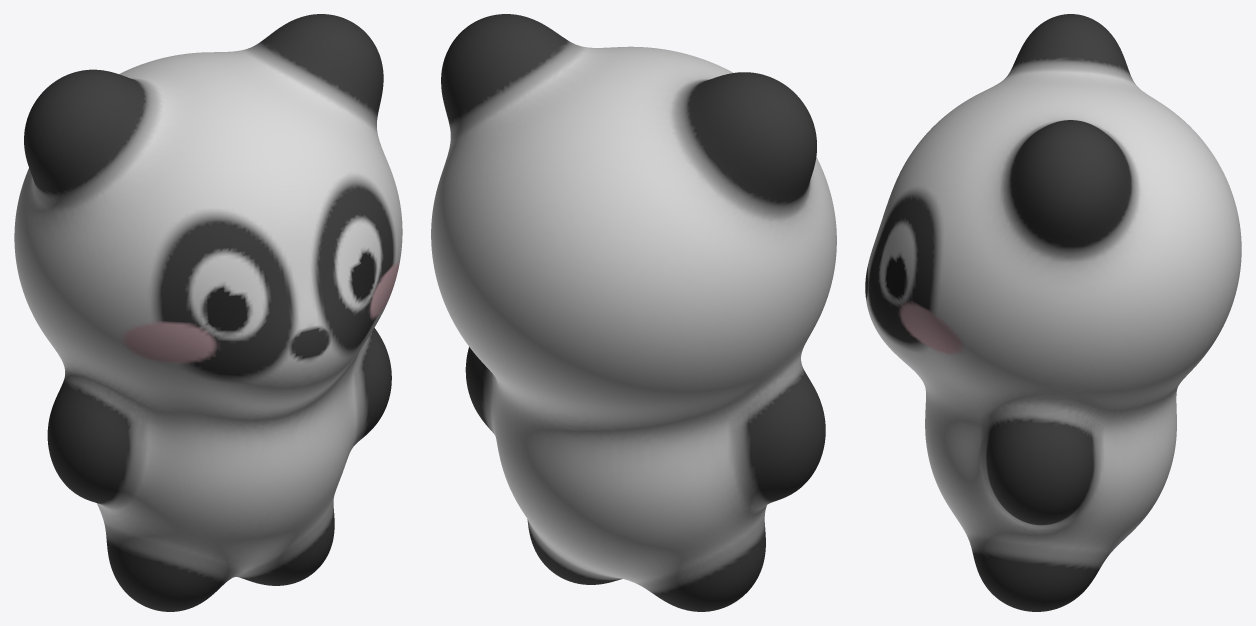
File: figure-panda.glb
3 renders of one model, left to right at view 1: azimuth 30°, elevation 25°; view 2: azimuth 150°, elevation 25°; view 3: azimuth 270°, elevation 25°, orthographic. The views are drawn at different scales.
Parts seen in each view (by area): view 1: world; view 2: world; view 3: world.
Part boxes in pixels (x1,y1,x2,y2): world: [14, 14, 402, 611]; world: [431, 14, 836, 611]; world: [865, 14, 1241, 611].
Size of the model in its own units: 2.12 by 3.12 by 2.09.
